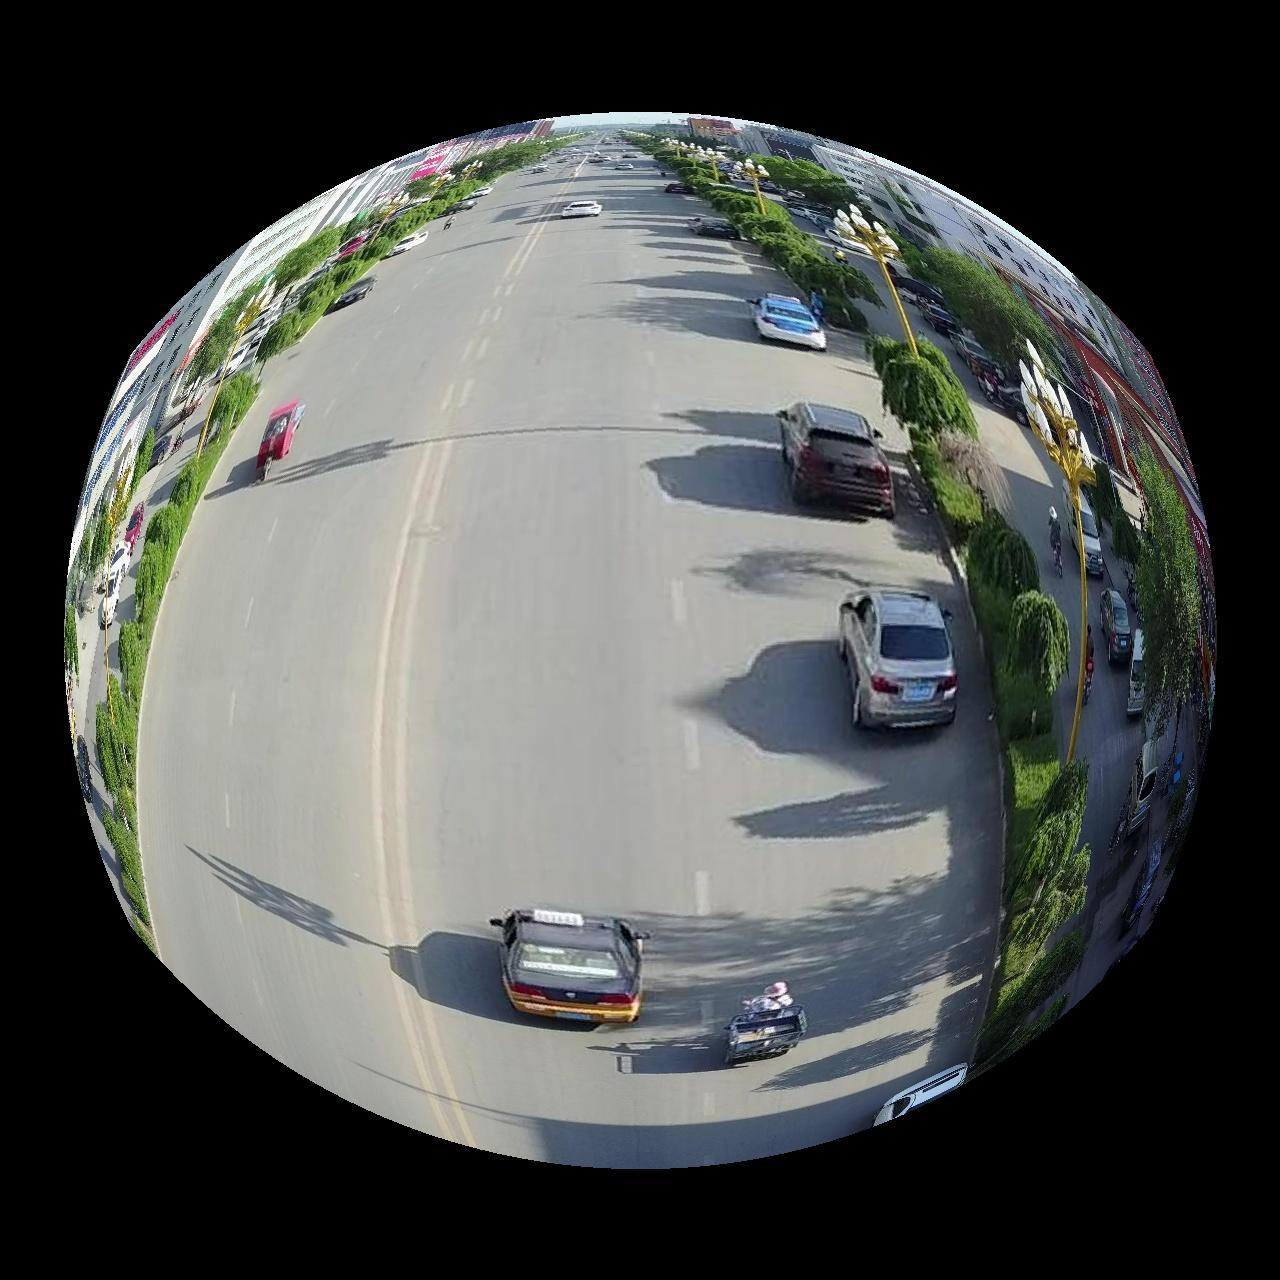cars: (491, 911, 645, 1024), (840, 590, 960, 729), (779, 402, 896, 518), (754, 293, 828, 349), (688, 215, 740, 238), (560, 199, 602, 217)
trees: (869, 336, 1092, 1065), (94, 372, 257, 949), (256, 150, 520, 361)
